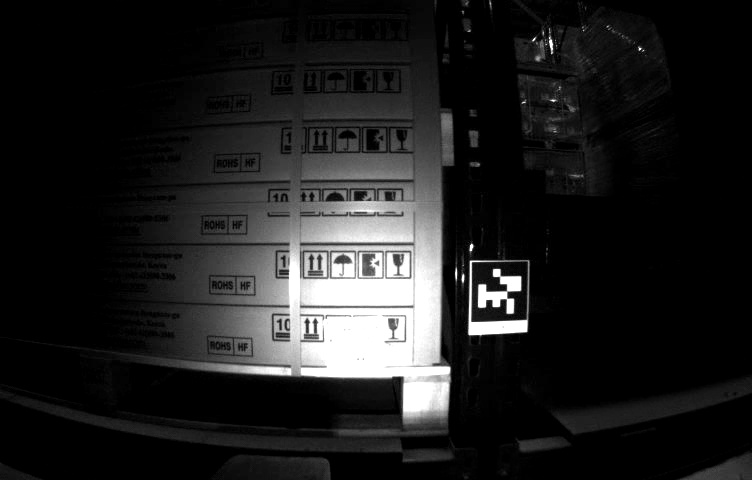True Barcode: (322, 316, 387, 374)
